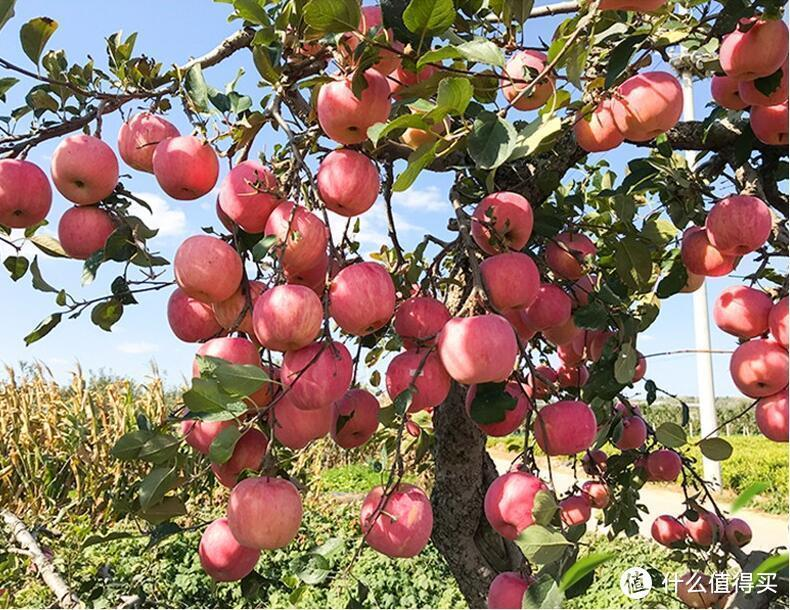apple: (313, 65, 394, 147), (325, 260, 396, 338), (360, 482, 434, 556), (227, 476, 302, 549), (439, 314, 517, 384), (612, 71, 685, 145), (277, 342, 354, 411), (217, 156, 284, 231), (48, 132, 119, 202), (250, 284, 323, 351), (481, 471, 550, 541), (719, 12, 788, 80), (174, 234, 244, 301), (150, 135, 219, 200), (314, 146, 379, 215), (471, 250, 541, 314), (265, 202, 330, 269), (384, 346, 450, 411), (706, 192, 772, 257), (469, 191, 535, 254), (196, 514, 258, 580), (496, 49, 557, 111), (116, 109, 178, 170), (532, 398, 597, 455), (1, 160, 52, 232), (729, 339, 790, 396), (715, 285, 772, 341), (326, 391, 381, 449), (57, 203, 114, 257), (679, 224, 734, 276), (487, 567, 541, 610), (750, 102, 790, 148)
